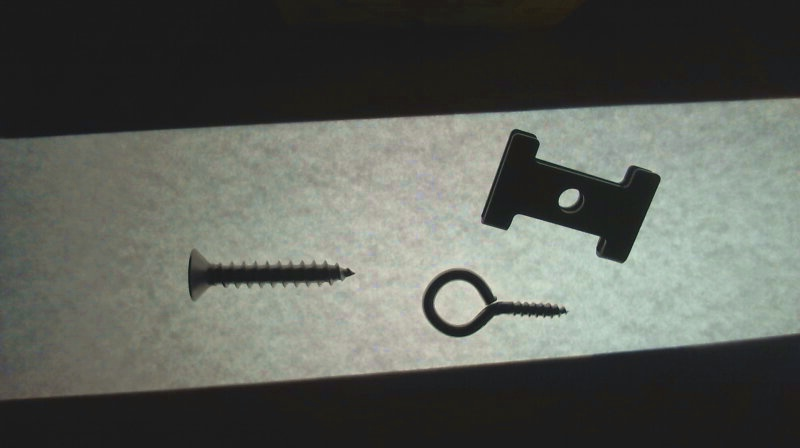O001: (416, 265, 571, 340)
O002: (477, 126, 666, 266)
S001: (183, 242, 357, 303)
